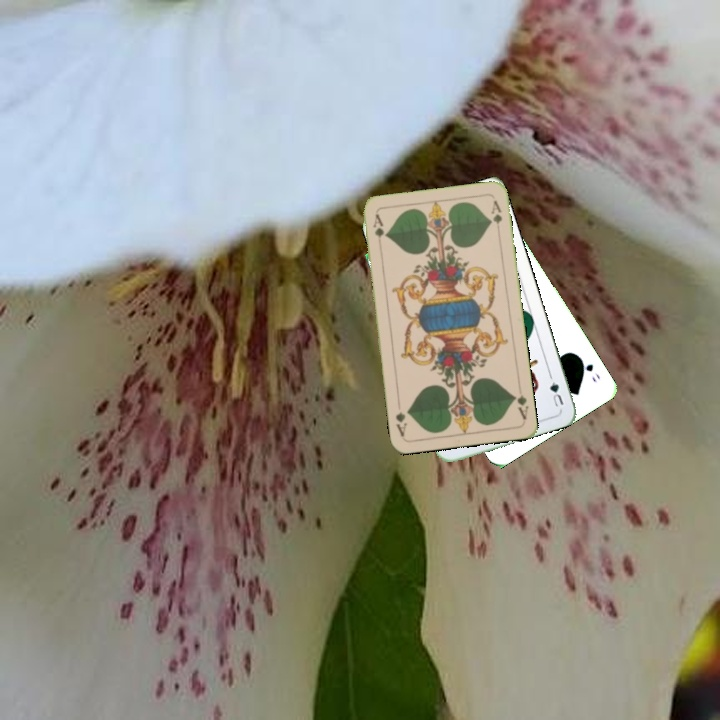GA: (369, 210, 386, 251), (509, 391, 531, 422)
GO: (575, 353, 603, 386)
GU: (545, 371, 566, 410)
